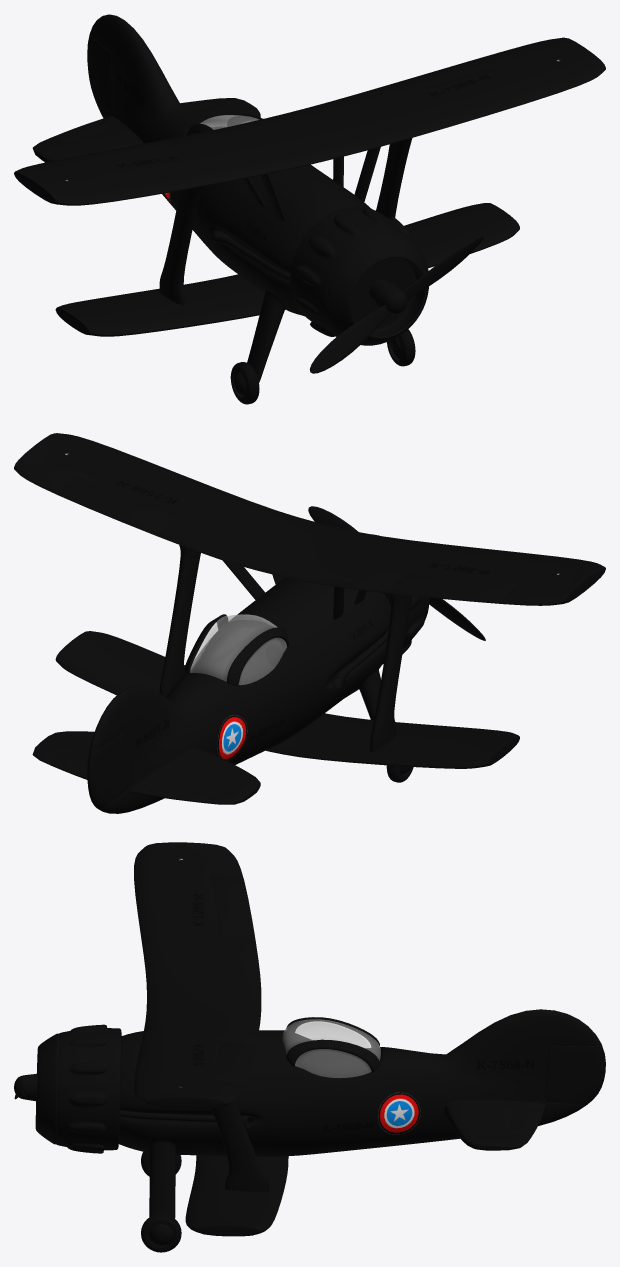
Rendered from 8a67fcd7-5a7a-49bd-ae05-99cb5cdb719a.glb.
The picture shows the model from 3 angles, top to bottom: view 1: azimuth 30°, elevation 25°; view 2: azimuth 150°, elevation 25°; view 3: azimuth 270°, elevation 25°; orthographic projection. The views are drawn at different scales.
Parts seen in each view (by area): view 1: avio_body, avio_Helix; view 2: avio_body, avio_Helix; view 3: avio_body, avio_Helix.
Boxes of the visible parts, x1,y1,x2,y2 form: avio_body: (14, 14, 605, 404); avio_Helix: (309, 236, 483, 373); avio_body: (14, 433, 605, 813); avio_Helix: (308, 506, 485, 640); avio_body: (35, 842, 605, 1252); avio_Helix: (14, 1074, 37, 1101).
Bounding box in the file's own units: 8.97 × 4.04 × 8.81.
Materials: 2 (1 with a texture image).
